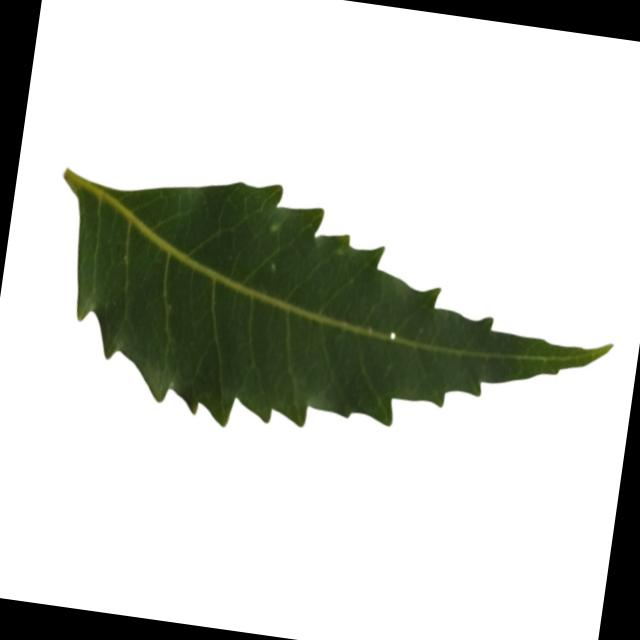Medicinal-Neem: (32, 152, 630, 478)
